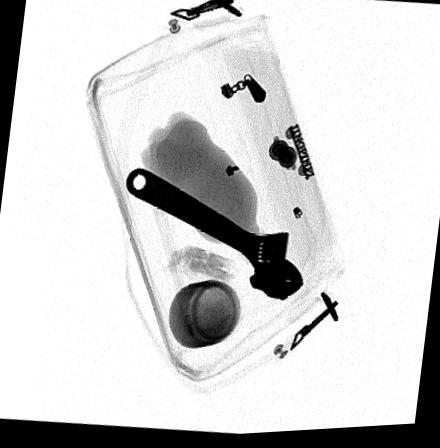Wrench: (129, 170, 306, 301)
